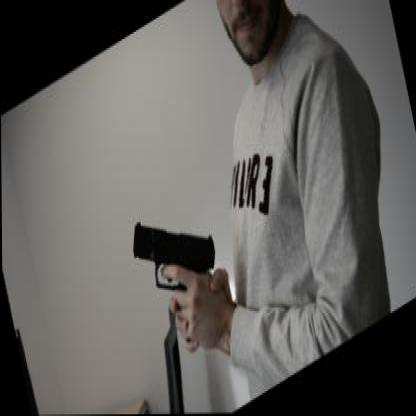pistol: (126, 182, 228, 364)
